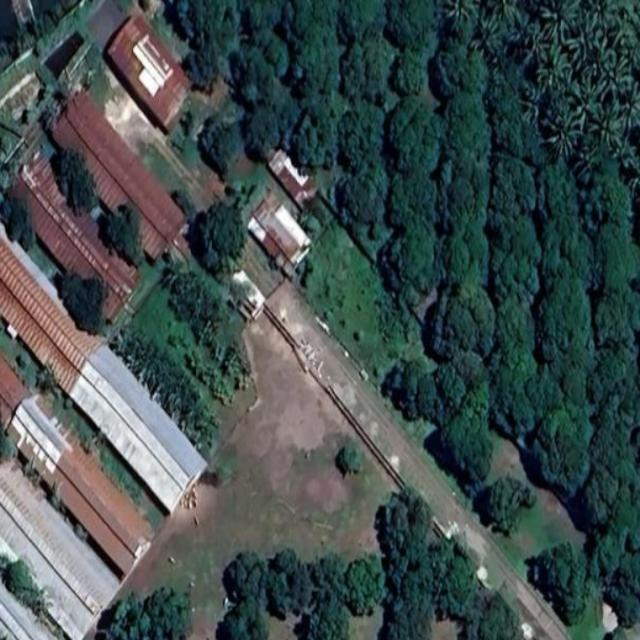Tree: (533, 274, 594, 376), (528, 161, 581, 257), (535, 407, 595, 491), (531, 540, 587, 628), (384, 96, 440, 180), (434, 412, 493, 490), (381, 488, 429, 583), (426, 534, 477, 622), (593, 394, 640, 486), (481, 73, 524, 167), (291, 26, 339, 110), (51, 268, 109, 336), (343, 33, 392, 106), (488, 363, 534, 440), (185, 1, 242, 62), (196, 205, 247, 272), (483, 158, 538, 220), (482, 214, 544, 269), (446, 90, 493, 162), (590, 216, 637, 288), (382, 577, 435, 640), (51, 146, 96, 218), (230, 43, 273, 115), (436, 46, 488, 104), (483, 478, 535, 534), (400, 218, 438, 294), (385, 0, 436, 56), (392, 169, 438, 231), (338, 110, 384, 172), (296, 102, 339, 168), (200, 120, 248, 176), (494, 290, 536, 352), (345, 556, 387, 617), (606, 556, 640, 629), (145, 584, 189, 640), (591, 290, 634, 347), (99, 591, 148, 640), (464, 284, 495, 360), (105, 203, 144, 263), (336, 0, 384, 48), (303, 589, 348, 640), (606, 489, 640, 555), (591, 348, 628, 408), (340, 172, 382, 224), (218, 597, 268, 640), (1, 192, 35, 255), (228, 549, 269, 601), (284, 1, 334, 43), (458, 380, 493, 438), (308, 554, 352, 600), (532, 42, 572, 91), (568, 13, 604, 67), (252, 24, 288, 78), (544, 101, 582, 152), (589, 522, 620, 584), (570, 76, 605, 129), (589, 103, 626, 152), (564, 226, 596, 281), (246, 105, 281, 155), (446, 299, 479, 352), (591, 47, 629, 93), (432, 358, 463, 411), (480, 601, 522, 640), (180, 50, 218, 93), (541, 1, 582, 40), (393, 54, 427, 100), (263, 566, 292, 619), (441, 232, 473, 280), (585, 461, 621, 503), (607, 6, 637, 56), (528, 372, 559, 419), (432, 294, 456, 354), (602, 175, 632, 223), (382, 236, 408, 291), (501, 342, 538, 379), (408, 540, 434, 592), (558, 364, 588, 409), (241, 2, 281, 35), (455, 349, 487, 390), (286, 558, 310, 612), (472, 12, 501, 56), (612, 83, 640, 127), (580, 486, 608, 526), (439, 0, 476, 28), (403, 358, 426, 402), (464, 222, 486, 268), (510, 8, 535, 48), (446, 178, 472, 215), (459, 260, 480, 303), (467, 184, 490, 223), (417, 371, 437, 415), (340, 440, 363, 474), (463, 607, 487, 639), (448, 209, 474, 237), (500, 253, 518, 290), (452, 153, 474, 182), (386, 363, 405, 396), (469, 163, 489, 193), (276, 546, 296, 574), (524, 263, 540, 295), (486, 244, 504, 272), (514, 255, 530, 280), (405, 283, 420, 306), (371, 218, 382, 241)
